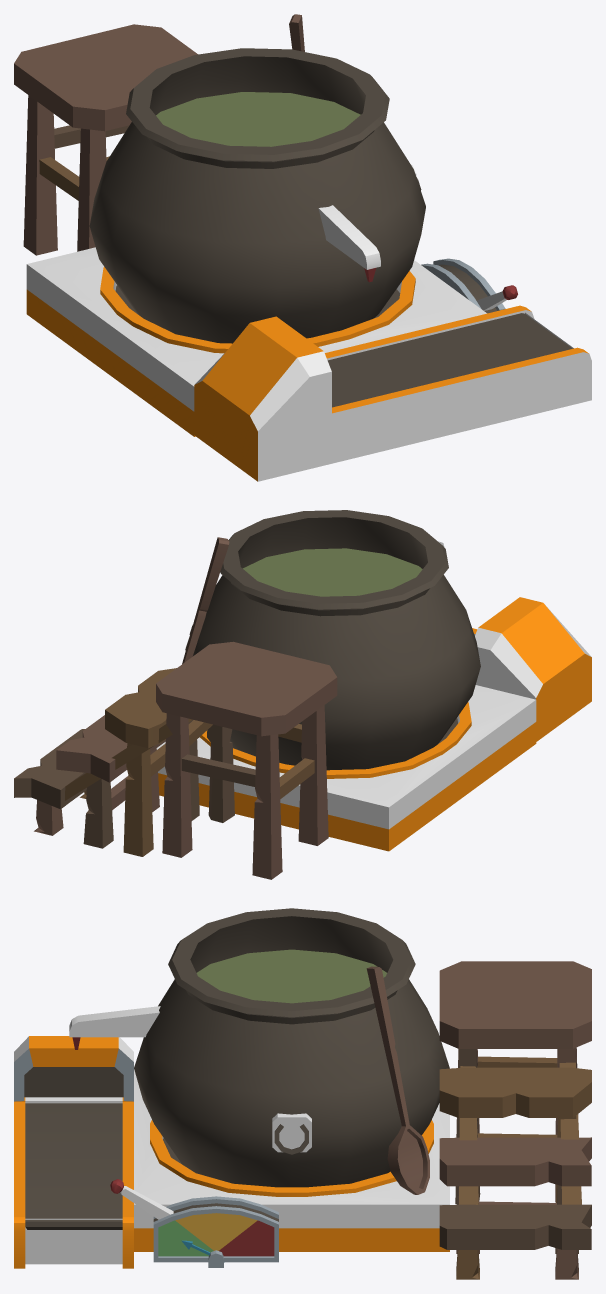
The model's file is 3D_workstation_cooking pot.fbx.
The picture shows the model from 3 angles, top to bottom: view 1: azimuth 30°, elevation 25°; view 2: azimuth 150°, elevation 25°; view 3: azimuth 270°, elevation 25°; orthographic projection. The views are drawn at different scales.
Parts seen in each view (by area): view 1: 3D_workstation_cooking pot_station, 3D_workstation_cooking pot_stair, 3D_workstation_cooking pot_soup-plane; view 2: 3D_workstation_cooking pot_station, 3D_workstation_cooking pot_stair, 3D_workstation_cooking pot_soup-plane, 3D_workstation_cooking pot_spoon; view 3: 3D_workstation_cooking pot_station, 3D_workstation_cooking pot_stair, 3D_workstation_cooking pot_soup-plane, 3D_workstation_cooking pot_spoon, 3D_workstation_cooking pot_lever.
Part boxes in pixels (<box>): 3D_workstation_cooking pot_station: <box>26,48,591,481</box>; 3D_workstation_cooking pot_stair: <box>14,24,197,255</box>; 3D_workstation_cooking pot_soup-plane: <box>156,92,360,146</box>; 3D_workstation_cooking pot_station: <box>156,510,591,851</box>; 3D_workstation_cooking pot_stair: <box>14,641,337,879</box>; 3D_workstation_cooking pot_soup-plane: <box>243,548,422,596</box>; 3D_workstation_cooking pot_spoon: <box>182,537,229,663</box>; 3D_workstation_cooking pot_station: <box>14,908,449,1268</box>; 3D_workstation_cooking pot_stair: <box>439,961,591,1279</box>; 3D_workstation_cooking pot_soup-plane: <box>196,949,386,1003</box>; 3D_workstation_cooking pot_spoon: <box>366,966,429,1194</box>; 3D_workstation_cooking pot_lever: <box>110,1179,173,1219</box>.
Size of the model in its own units: 2.35 by 1.79 by 3.54.
